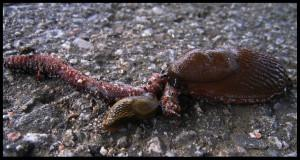earthworms: (4, 32, 153, 122)
